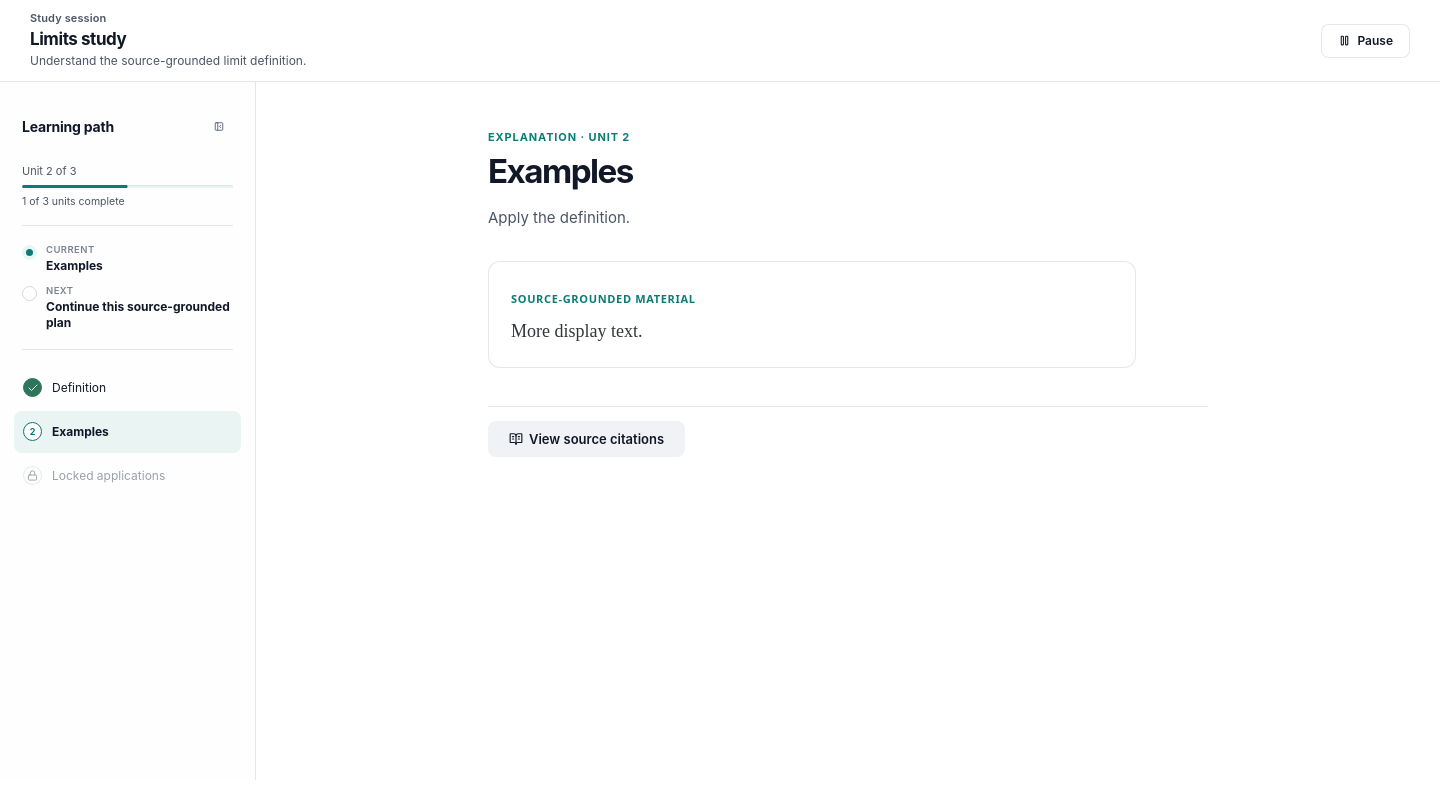
it: DeepLearnPage persisted session reader › uses the persisted current unit, permits completed read-only review, and keeps locked source unavailable
Expected: the text "More display text." is shown, x1=511 y1=321 x2=642 y2=341
Expected: the button with aria-label "Locked applications · locked" is disabled, x1=14 y1=455 x2=241 y2=497
Click the button with aria-label "Definition · completed" at (128, 388), box x1=14 y1=367 x2=241 y2=409
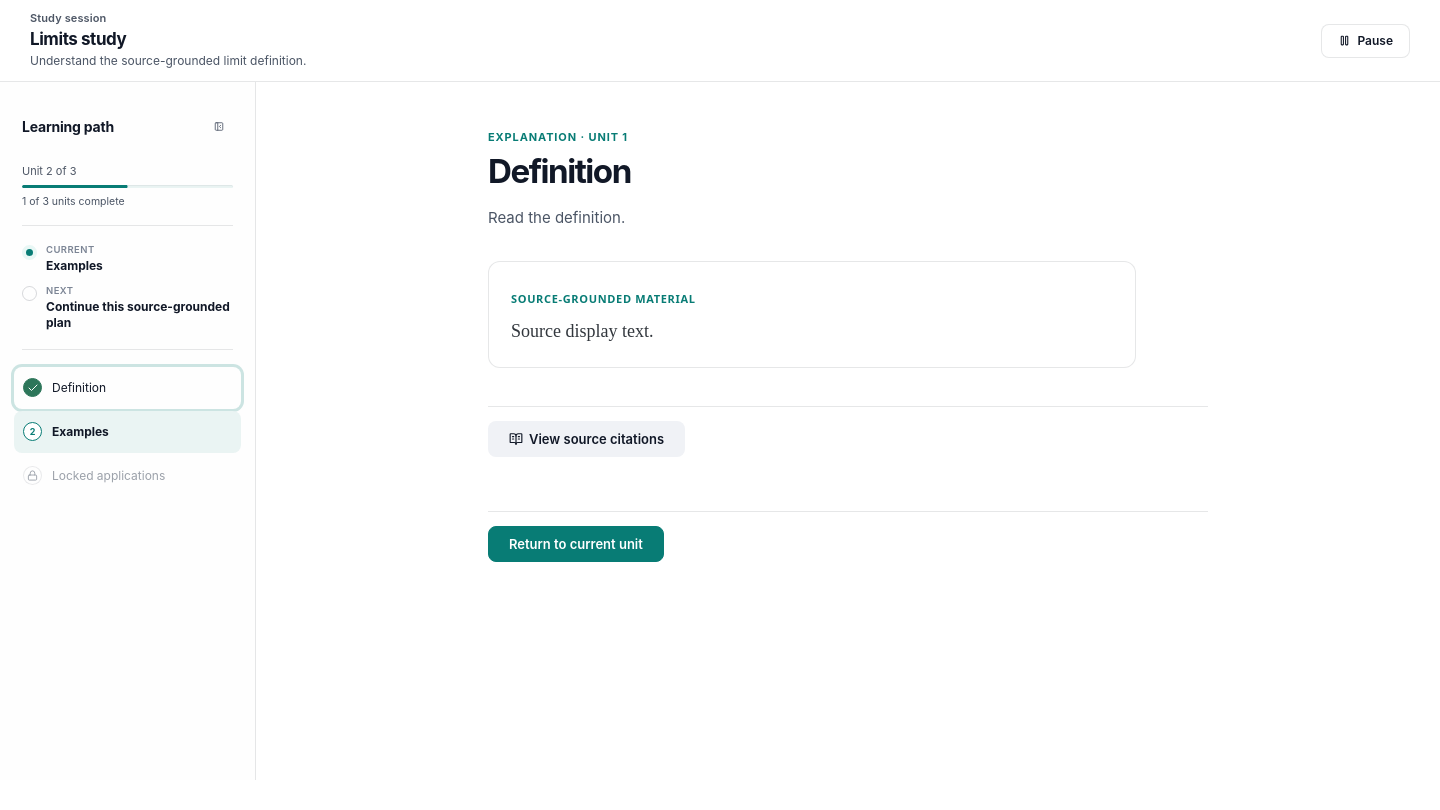
Result: the text "Source display text." is shown at x1=511 y1=321 x2=654 y2=341
Result: the button "Return to current unit" is shown at x1=488 y1=526 x2=664 y2=562
